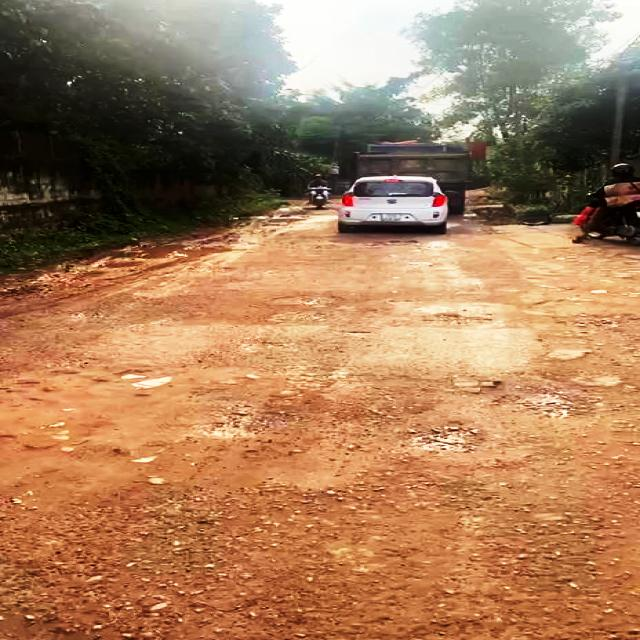pothole: (505, 386, 603, 420), (412, 422, 488, 454), (422, 309, 497, 330), (265, 292, 350, 310)
